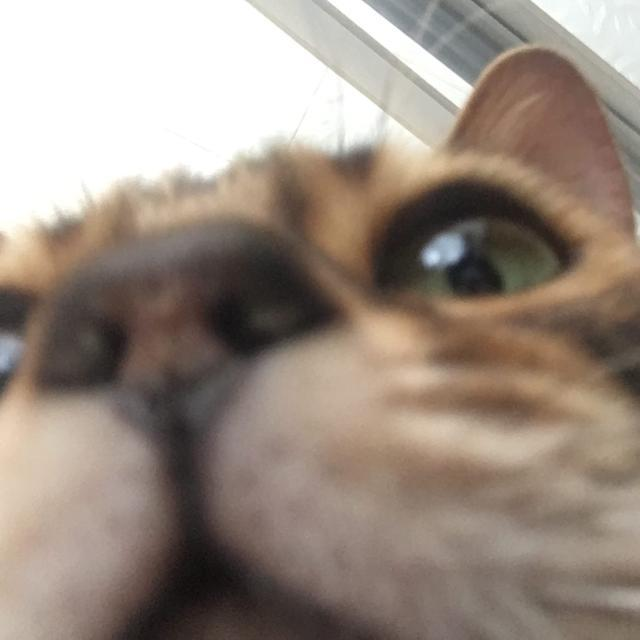Cats: (5, 45, 640, 640)
